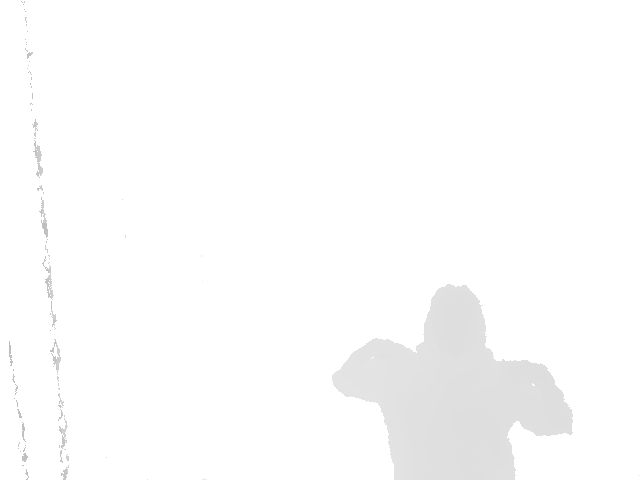head: (422, 284, 486, 353)
person: (331, 284, 574, 480)
